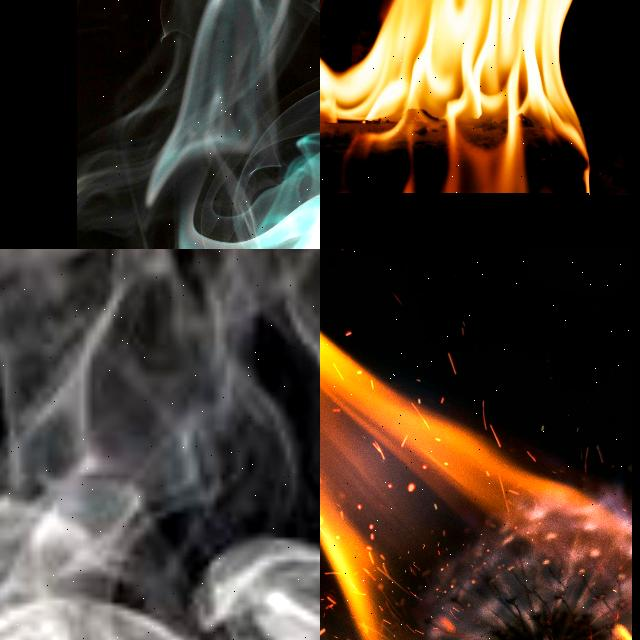fire: (320, 334, 631, 640)
fire-smoke: (320, 0, 588, 196), (320, 0, 588, 194)
smoke: (0, 249, 320, 640), (76, 0, 320, 249)
